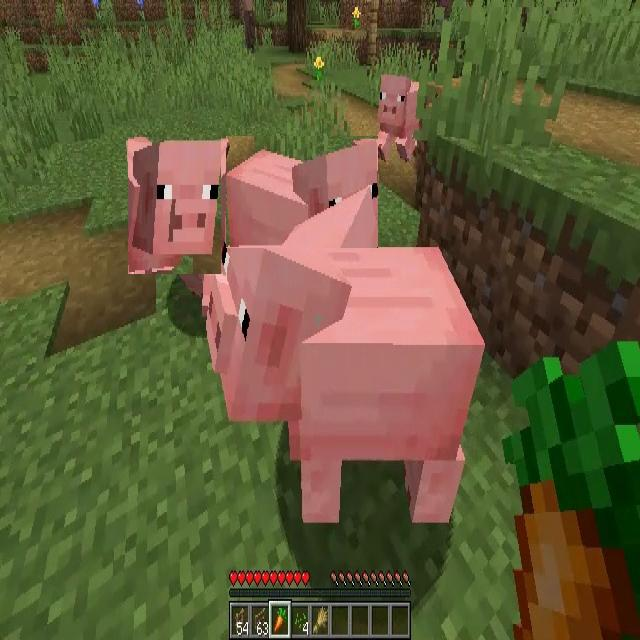flower: (314, 56, 326, 79), (352, 7, 361, 27)
pig: (213, 192, 454, 530), (226, 136, 378, 248), (128, 133, 221, 274), (378, 72, 433, 158)
